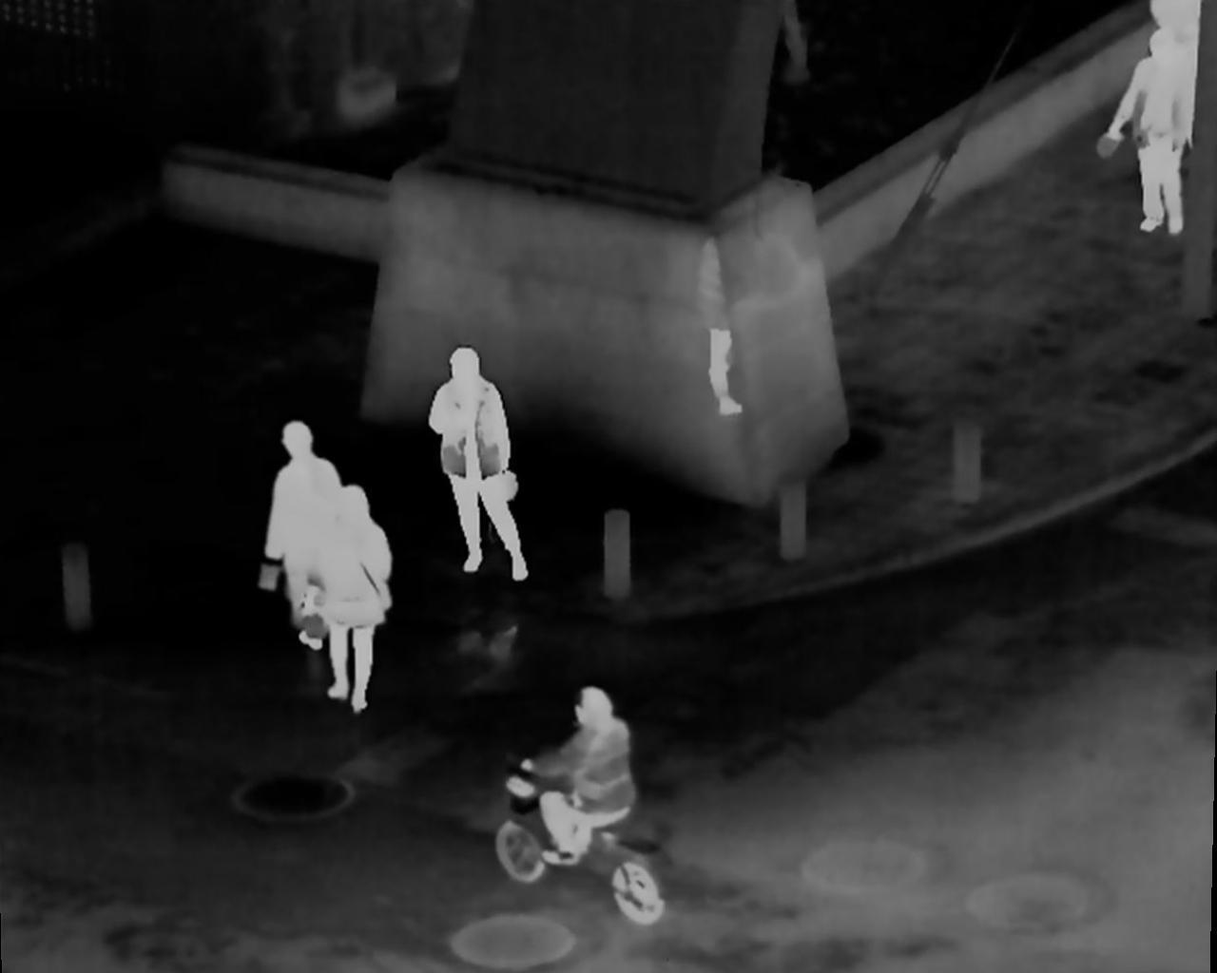person: (429, 337, 527, 583), (1096, 28, 1185, 237), (535, 687, 631, 875), (269, 424, 342, 644), (319, 483, 388, 706)
